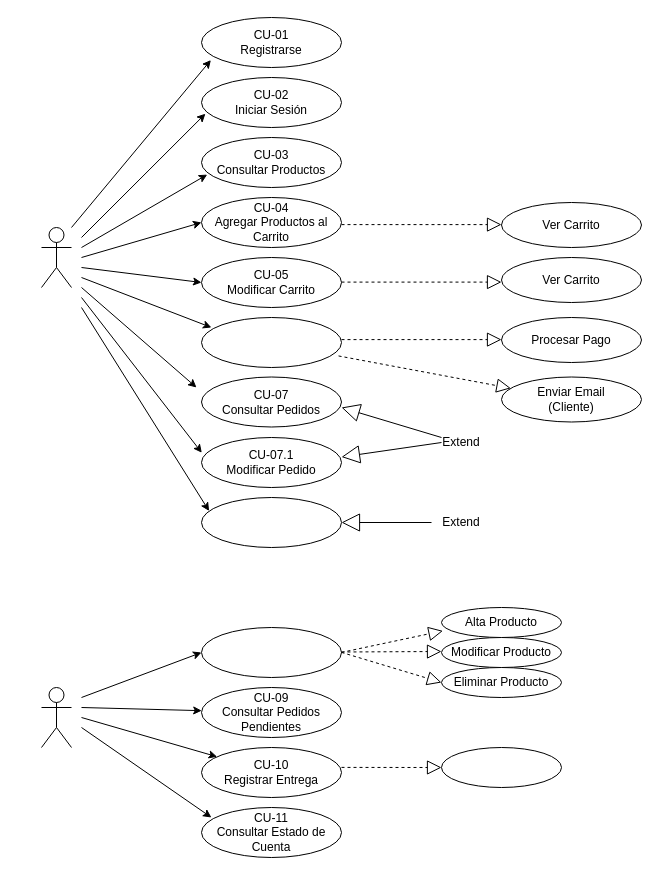
This 659x875 diagram has some shape labels left out. The shapes that lost their labels are listed below. From the top down, each one's centre as x and y in pixels, then its label:
At (x=56, y=257): "Cliente".
At (x=271, y=342): "CU-06 Confirmar Compra".
At (x=271, y=522): "CU-07.2 Cancelar Pedido".
At (x=271, y=652): "CU-08 Administrar Productos".
At (x=56, y=717): "Jefe de Ventas".
At (x=501, y=767): "Enviar Email (interno)".
